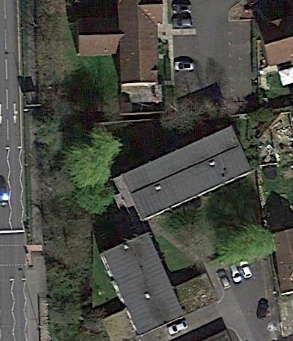tree: (59, 125, 138, 222), (212, 215, 280, 271)
